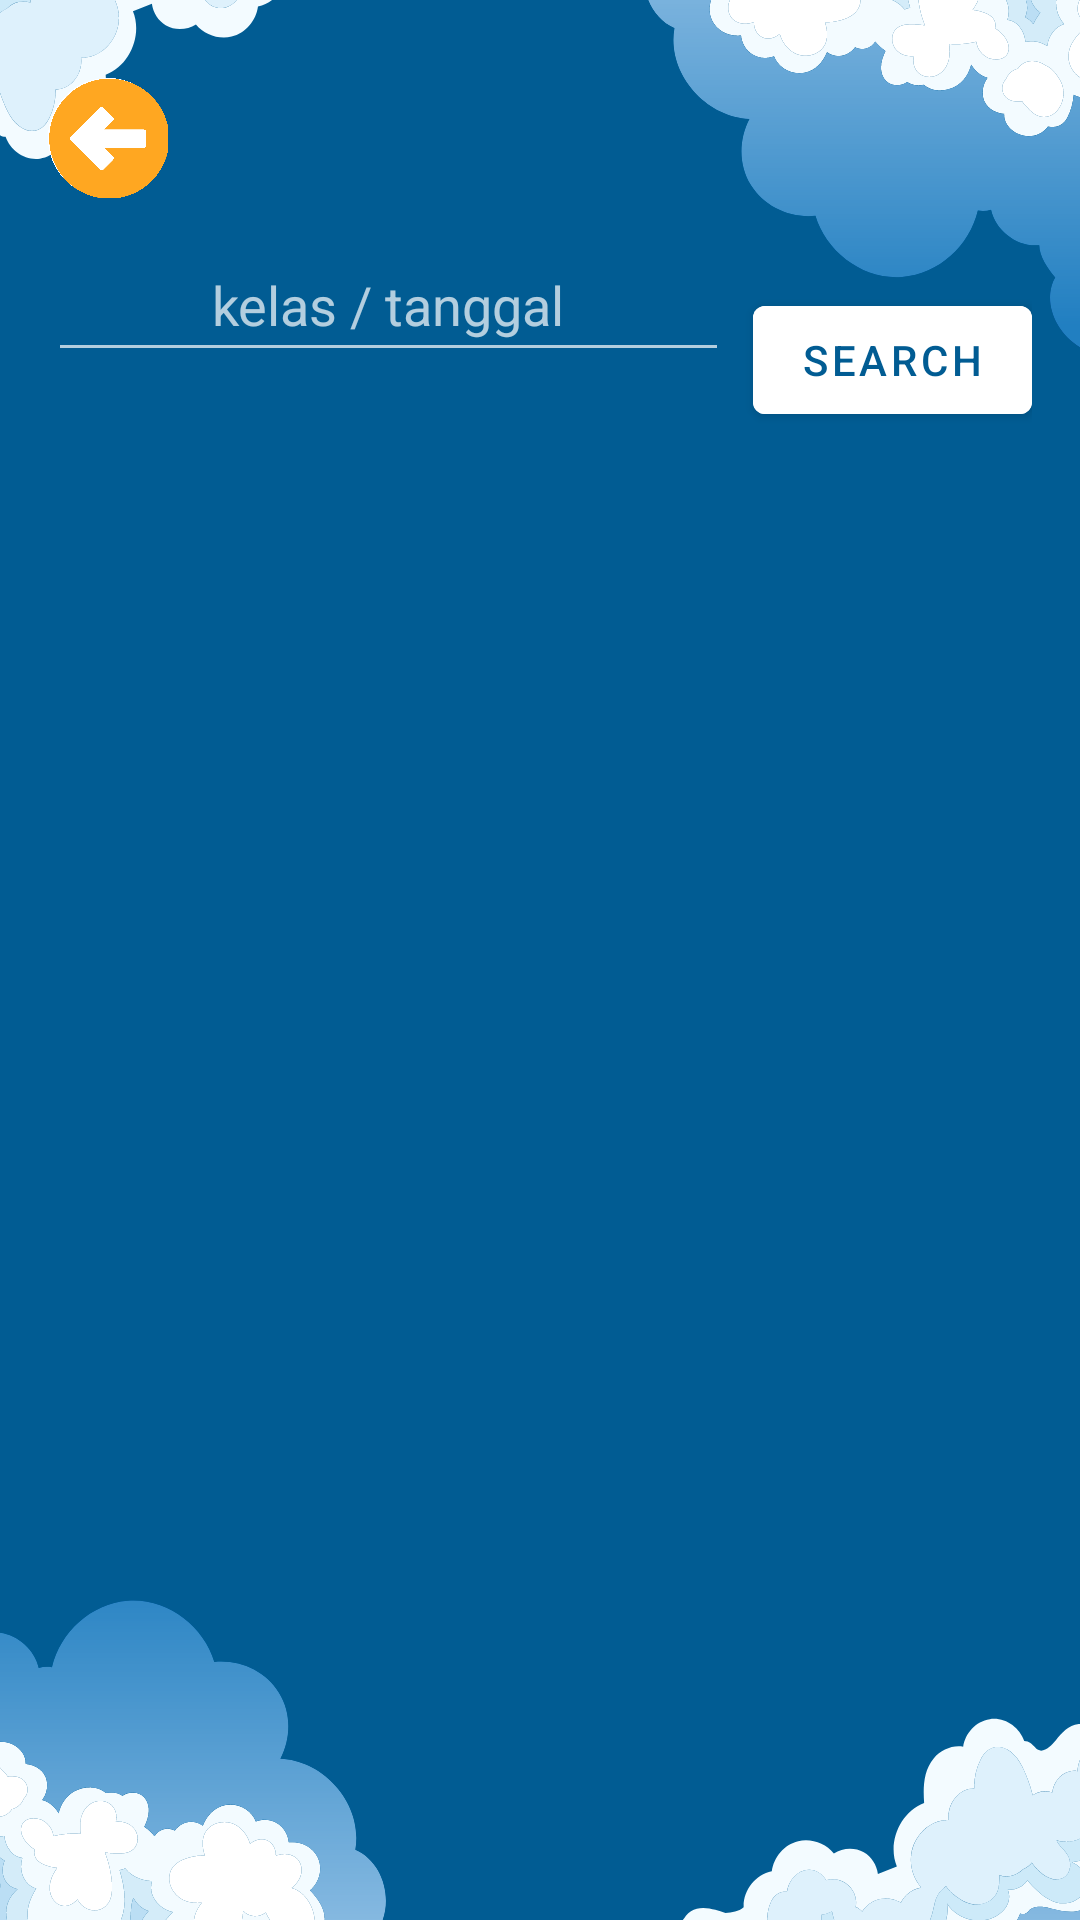

Locate icon controls on the screen. Image size 1080×1920, boxes as box=[x1, y1, x2, y2].
back: box=[48, 78, 168, 198]
